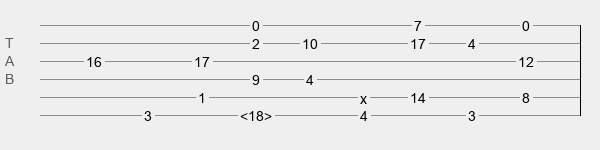0: (252, 18, 260, 28), (522, 18, 530, 28)
1: (198, 90, 206, 100)
10: (302, 36, 318, 46)
12: (518, 54, 534, 64)
14: (410, 90, 426, 100)
16: (86, 54, 102, 64)
17: (194, 54, 210, 64), (410, 36, 426, 46)
2: (252, 36, 260, 46)
3: (144, 108, 152, 118), (468, 108, 476, 118)
4: (306, 72, 314, 82), (360, 108, 368, 118), (468, 36, 476, 46)
7: (414, 18, 422, 28)
8: (522, 90, 530, 100)
9: (252, 72, 260, 82)
harmonic: (240, 108, 272, 118)
x: (360, 91, 367, 99)
